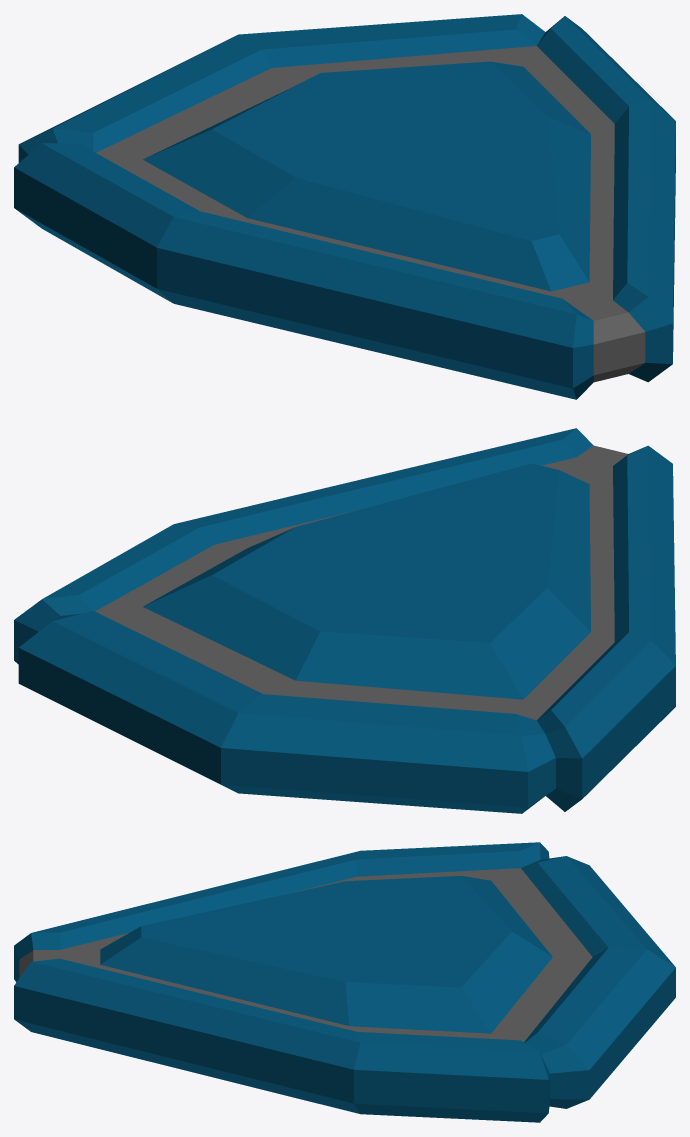
File: ShieldPickUp.fbx
The picture shows the model from 3 angles, top to bottom: view 1: azimuth 30°, elevation 25°; view 2: azimuth 150°, elevation 25°; view 3: azimuth 270°, elevation 25°; orthographic projection. The views are drawn at different scales.
Visible parts, largest first — view 1: ShieldPickUp; view 2: ShieldPickUp; view 3: ShieldPickUp.
Part boxes in pixels (left/top/right/bottom): ShieldPickUp: left=14, top=14, right=675, bottom=399; ShieldPickUp: left=14, top=428, right=675, bottom=813; ShieldPickUp: left=14, top=842, right=675, bottom=1122.
Size of the model in its own units: 4.4 by 0.9125 by 5.39.
